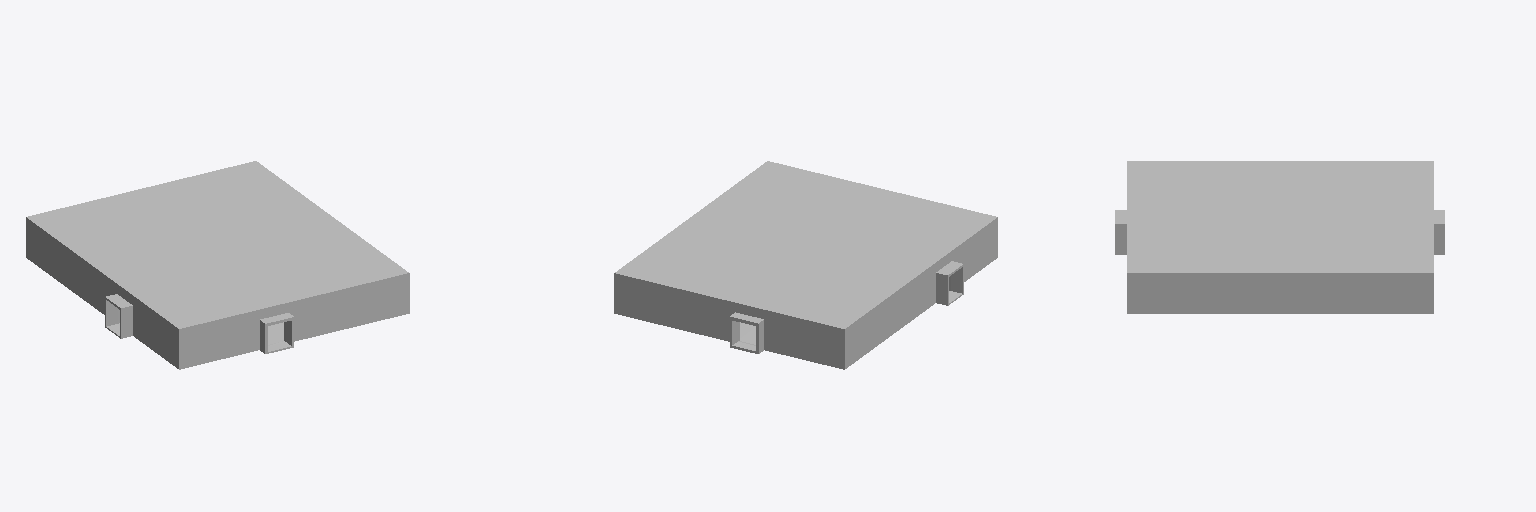
File: RoomSix.obj
3 renders of one model, left to right at view 1: azimuth 30°, elevation 25°; view 2: azimuth 150°, elevation 25°; view 3: azimuth 270°, elevation 25°, orthographic.
Parts seen in each view (by area): view 1: Cube; view 2: Cube; view 3: Cube.
Part boxes in pixels (x1,y1,x2,y2): Cube: (26, 161, 409, 369); Cube: (614, 161, 997, 369); Cube: (1115, 161, 1444, 313).
Bounding box in the file's own units: 17.7 × 2.08 × 15.28.